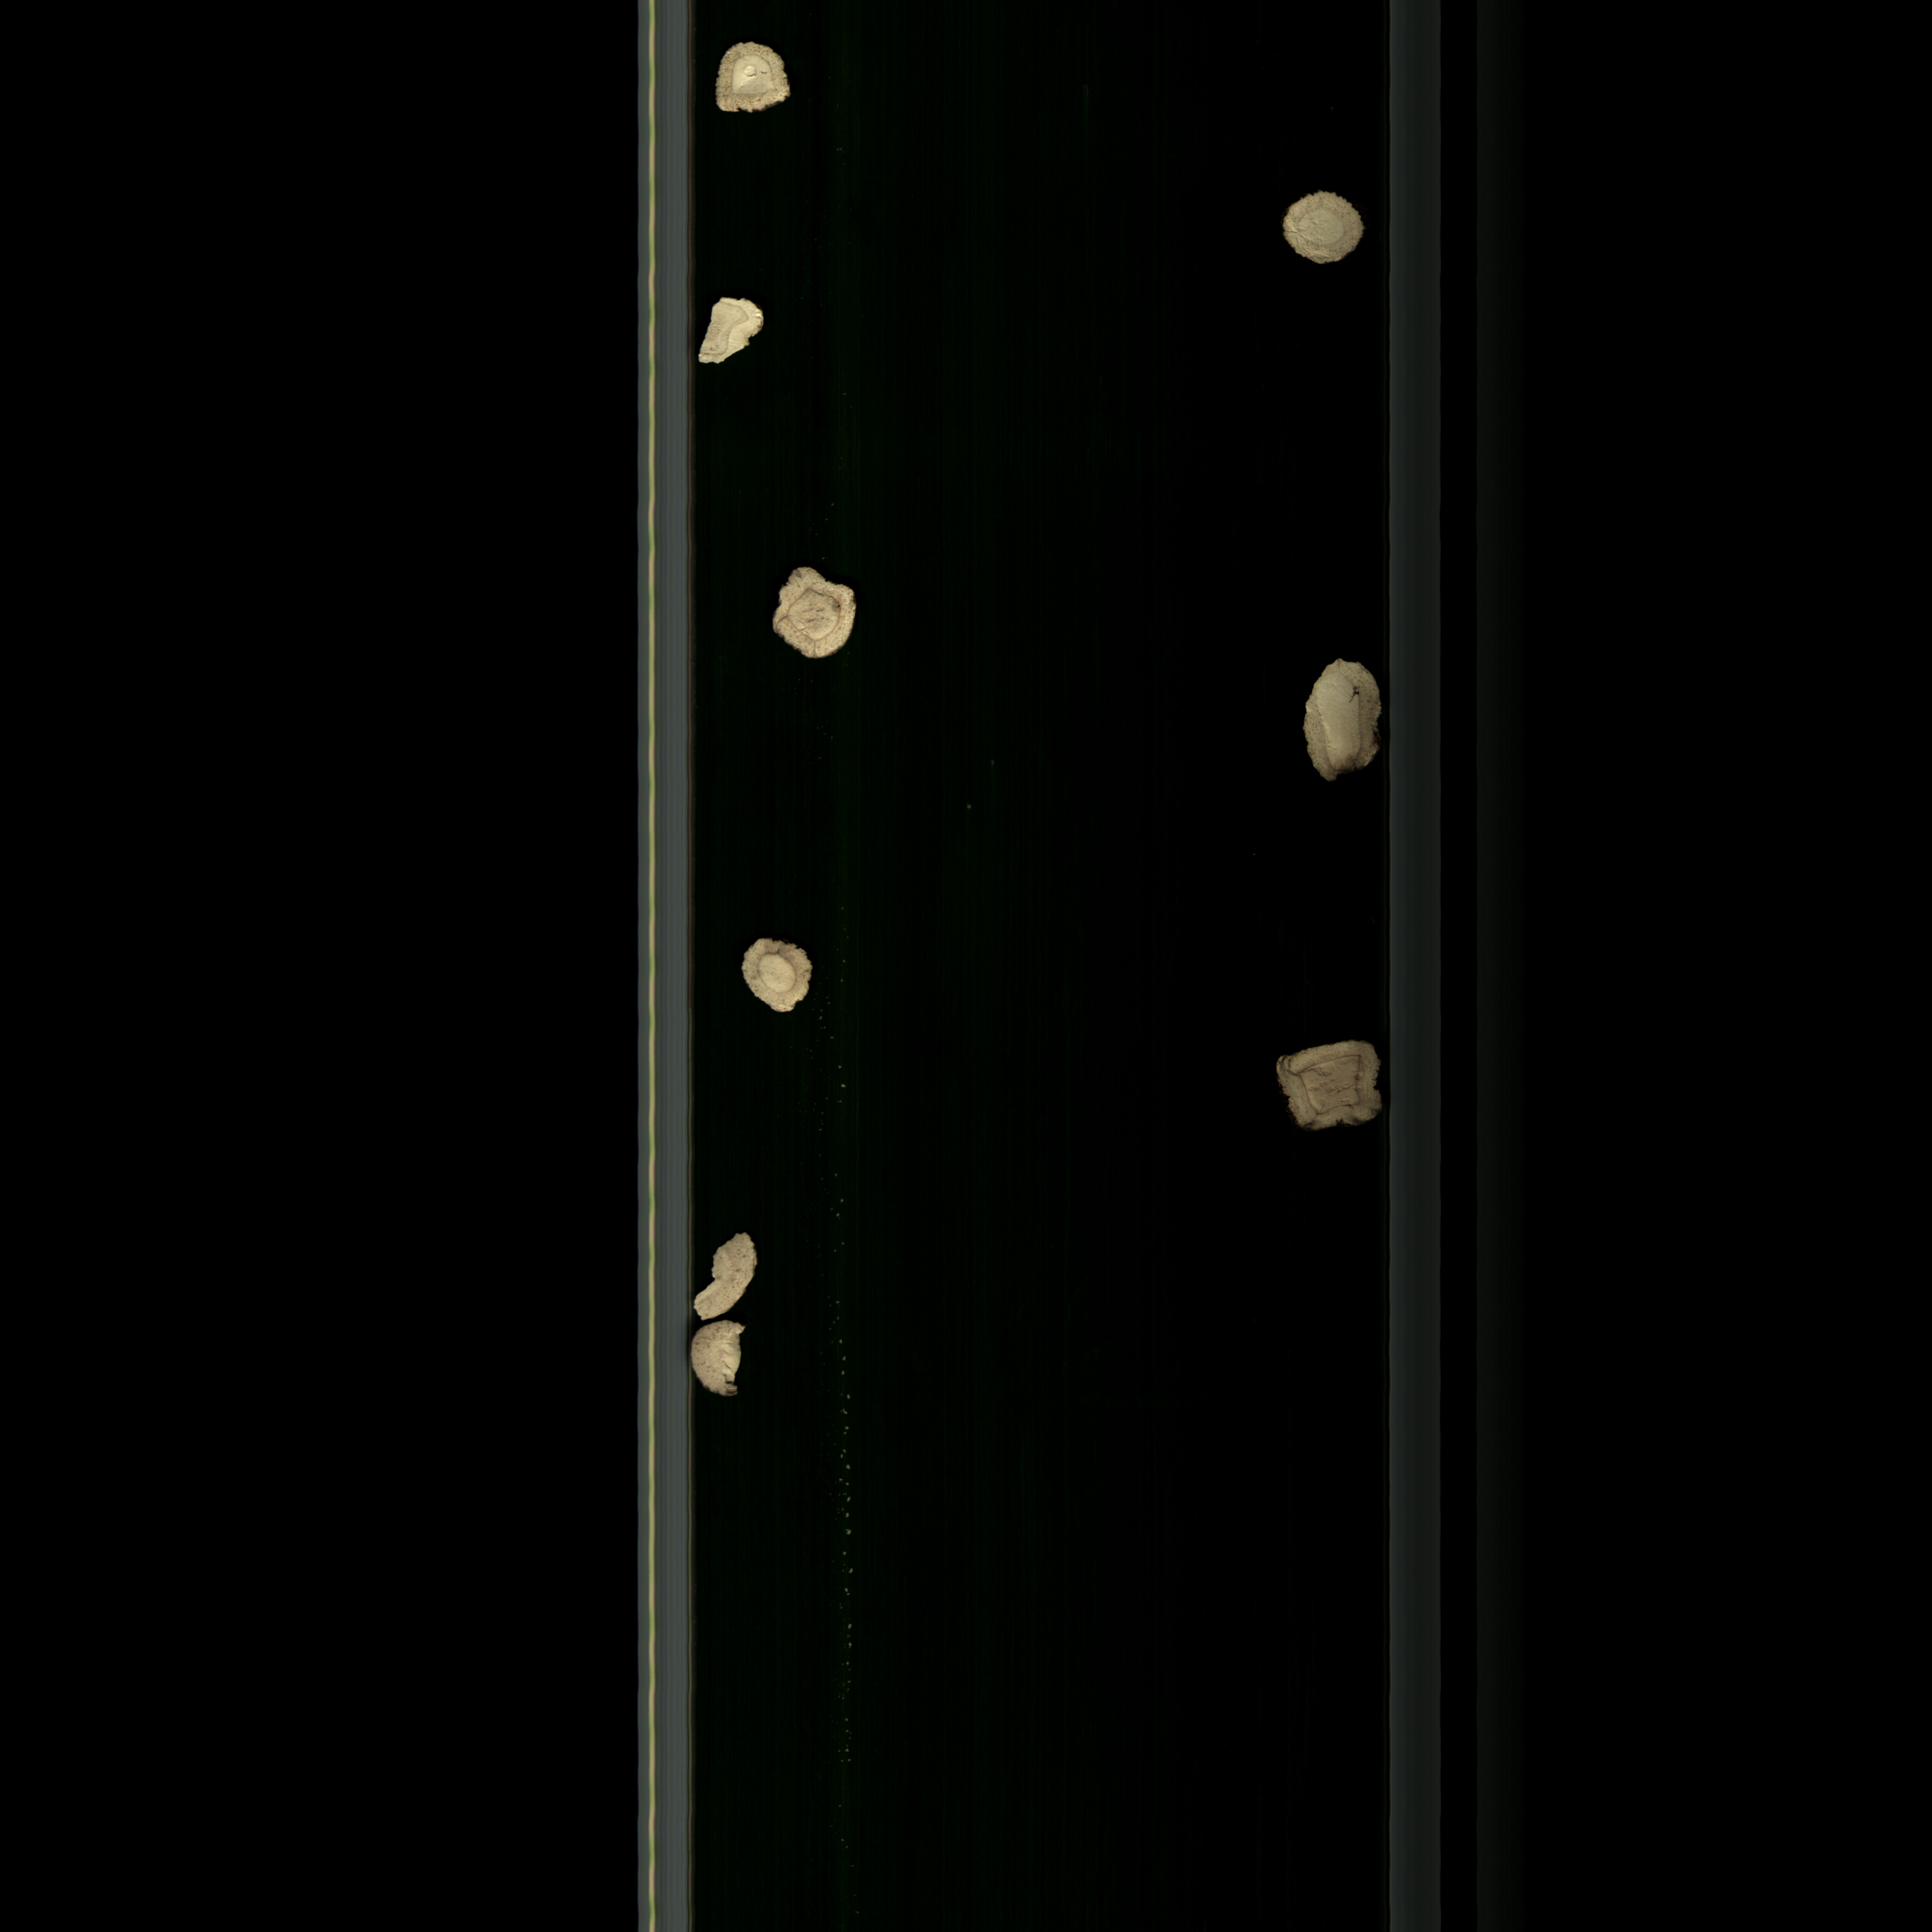debris: (692, 290, 773, 375), (692, 1226, 763, 1318), (688, 1325, 752, 1403)
distortion: (766, 563, 862, 672)
moldy: (1290, 655, 1389, 793), (1253, 1040, 1385, 1143), (708, 41, 800, 127), (731, 938, 821, 1023)
